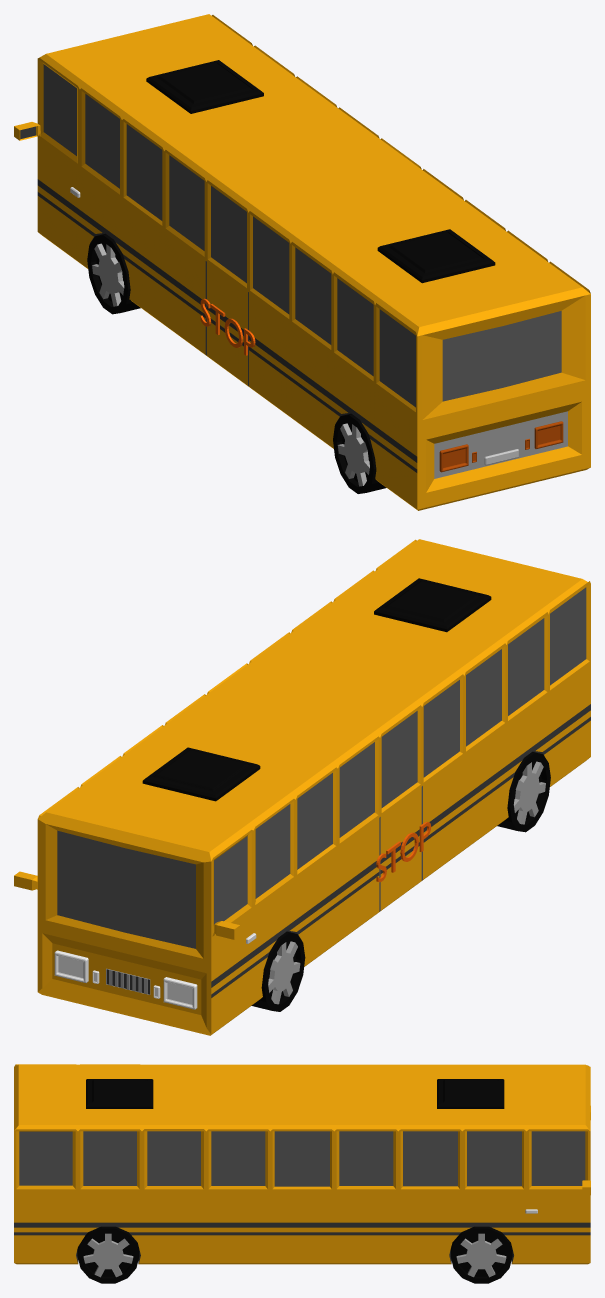
The model's file is BR WHEEL.002_BODY.015.glb.
3 renders of one model, top to bottom at view 1: azimuth 30°, elevation 25°; view 2: azimuth 150°, elevation 25°; view 3: azimuth 270°, elevation 25°, orthographic. The views are drawn at different scales.
Parts seen in each view (by area): view 1: BR WHEEL.002_BODY.015_0; view 2: BR WHEEL.002_BODY.015_0; view 3: BR WHEEL.002_BODY.015_0.
Boxes of the visible parts, x1,y1,x2,y2 form: BR WHEEL.002_BODY.015_0: [14, 14, 590, 510]; BR WHEEL.002_BODY.015_0: [14, 539, 590, 1035]; BR WHEEL.002_BODY.015_0: [14, 1064, 590, 1283].
Size of the model in its own units: 0.4513 by 0.4152 by 1.35.
Materials: 1 (1 with a texture image).
